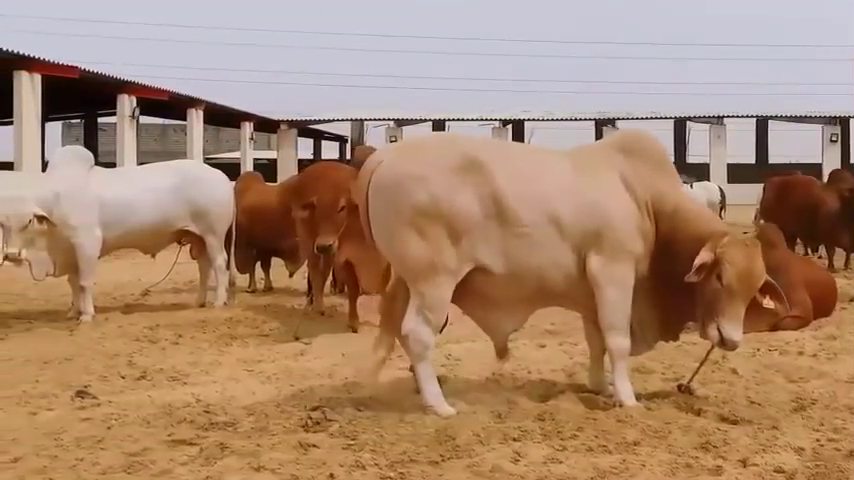bo: (360, 119, 790, 419), (2, 138, 236, 333), (290, 151, 370, 338), (724, 213, 838, 341), (758, 155, 853, 272), (221, 159, 290, 298), (679, 167, 734, 227)
